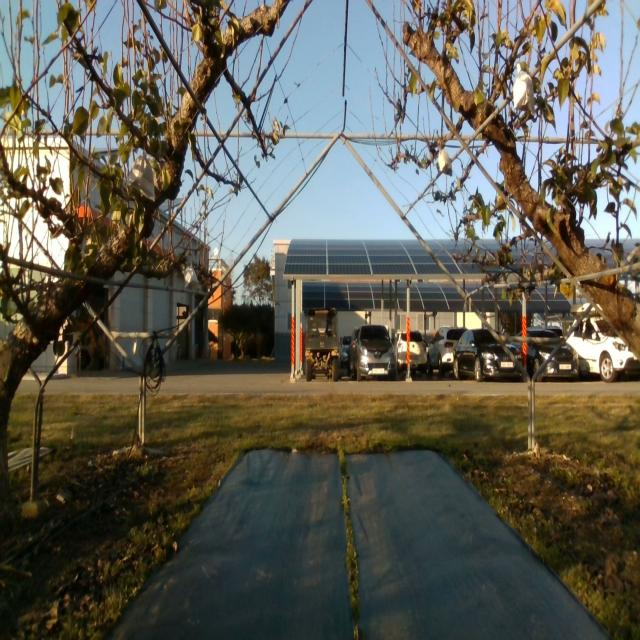pearbags: (126, 150, 156, 202), (513, 63, 535, 115), (437, 149, 453, 176), (184, 260, 199, 288)
